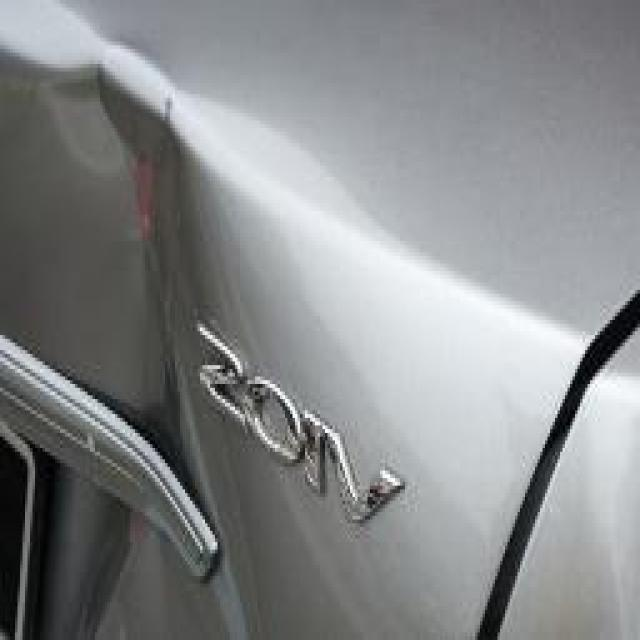Dickey: (28, 26, 368, 640)
